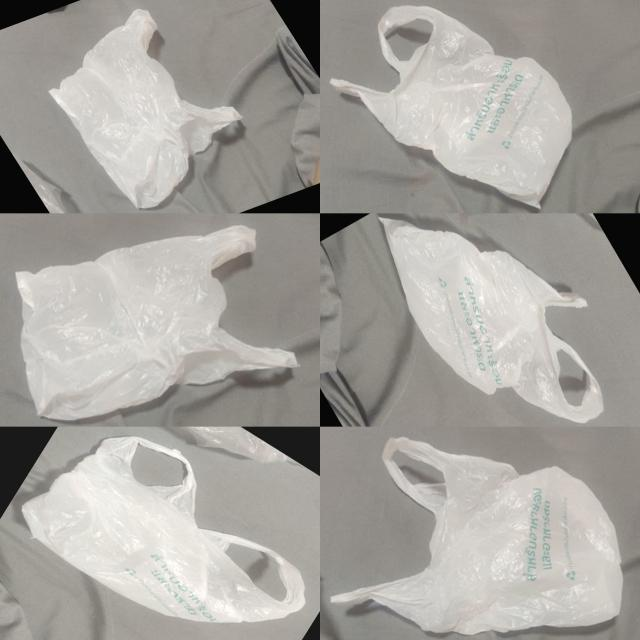Single-layer Plastic: (332, 438, 622, 634), (16, 225, 298, 420), (23, 436, 305, 622), (330, 6, 572, 208), (379, 218, 603, 422), (49, 9, 241, 209)
